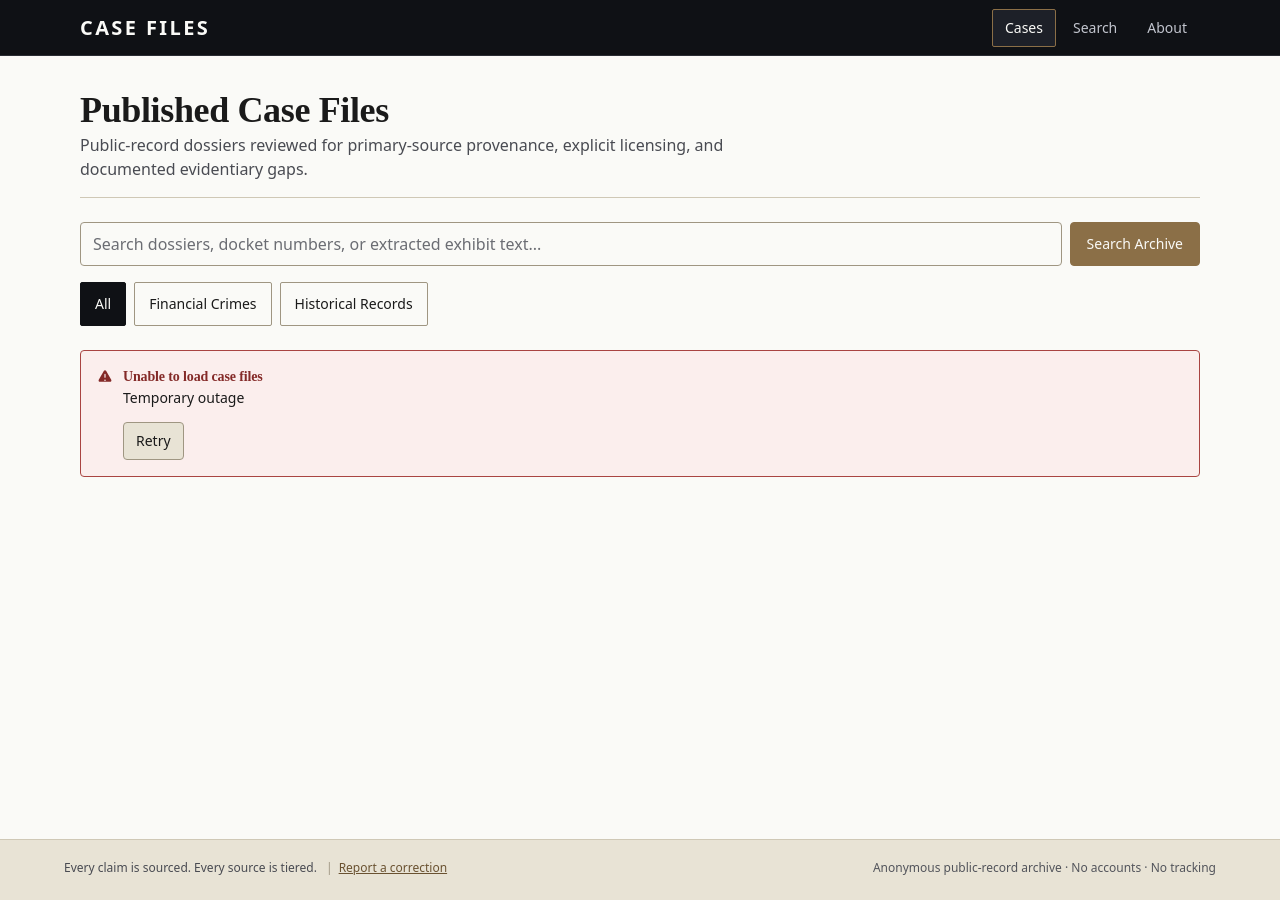
Test: Reader routes › CaseList displays error callout and recovers on retry
Expected: the heading "Unable to load case files" is shown, x1=123 y1=369 x2=263 y2=384
Step 1. Click the button "Retry" → (153, 441), box x1=123 y1=422 x2=184 y2=460
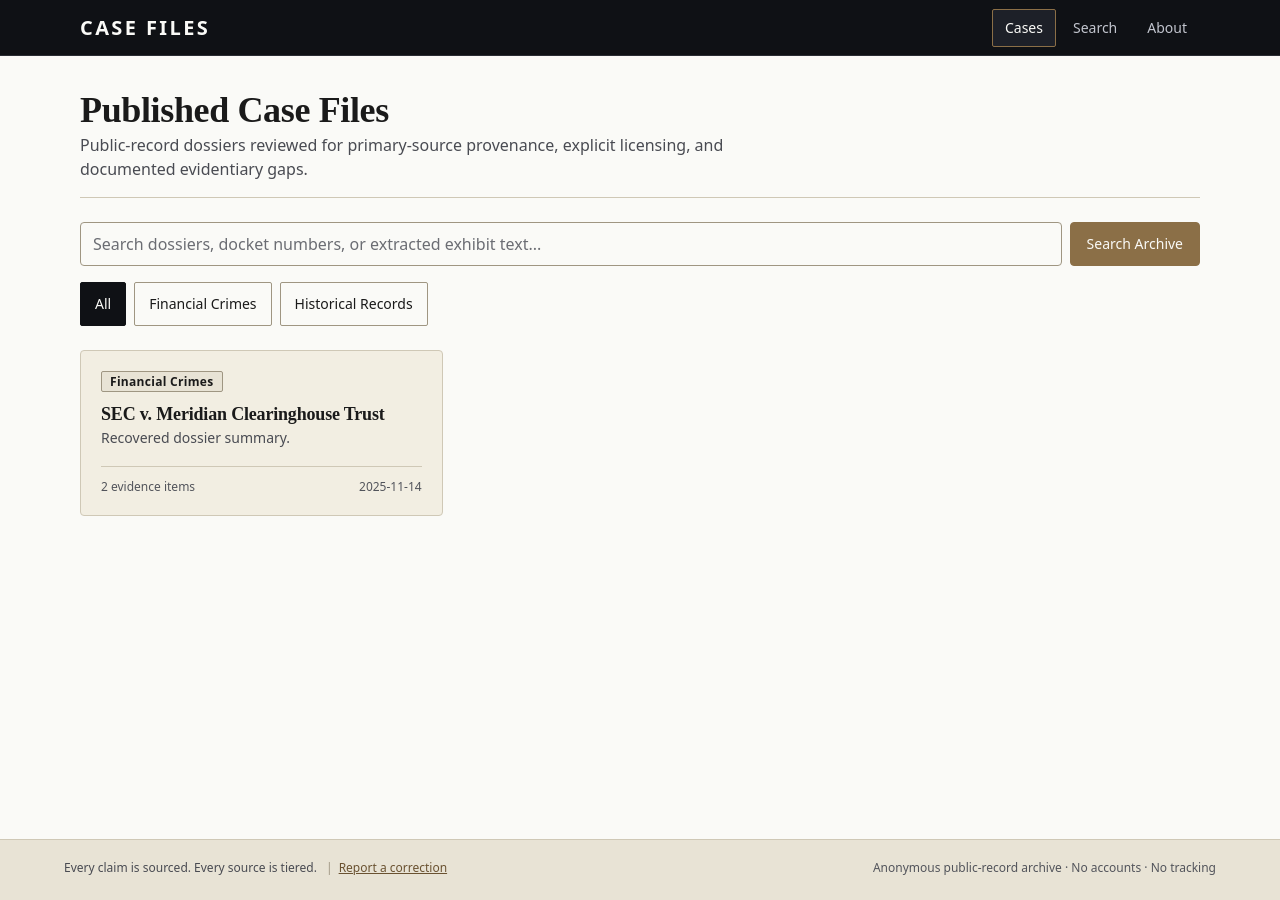
Expected: the heading "SEC v. Meridian Clearinghouse Trust" is shown, x1=101 y1=402 x2=422 y2=427
